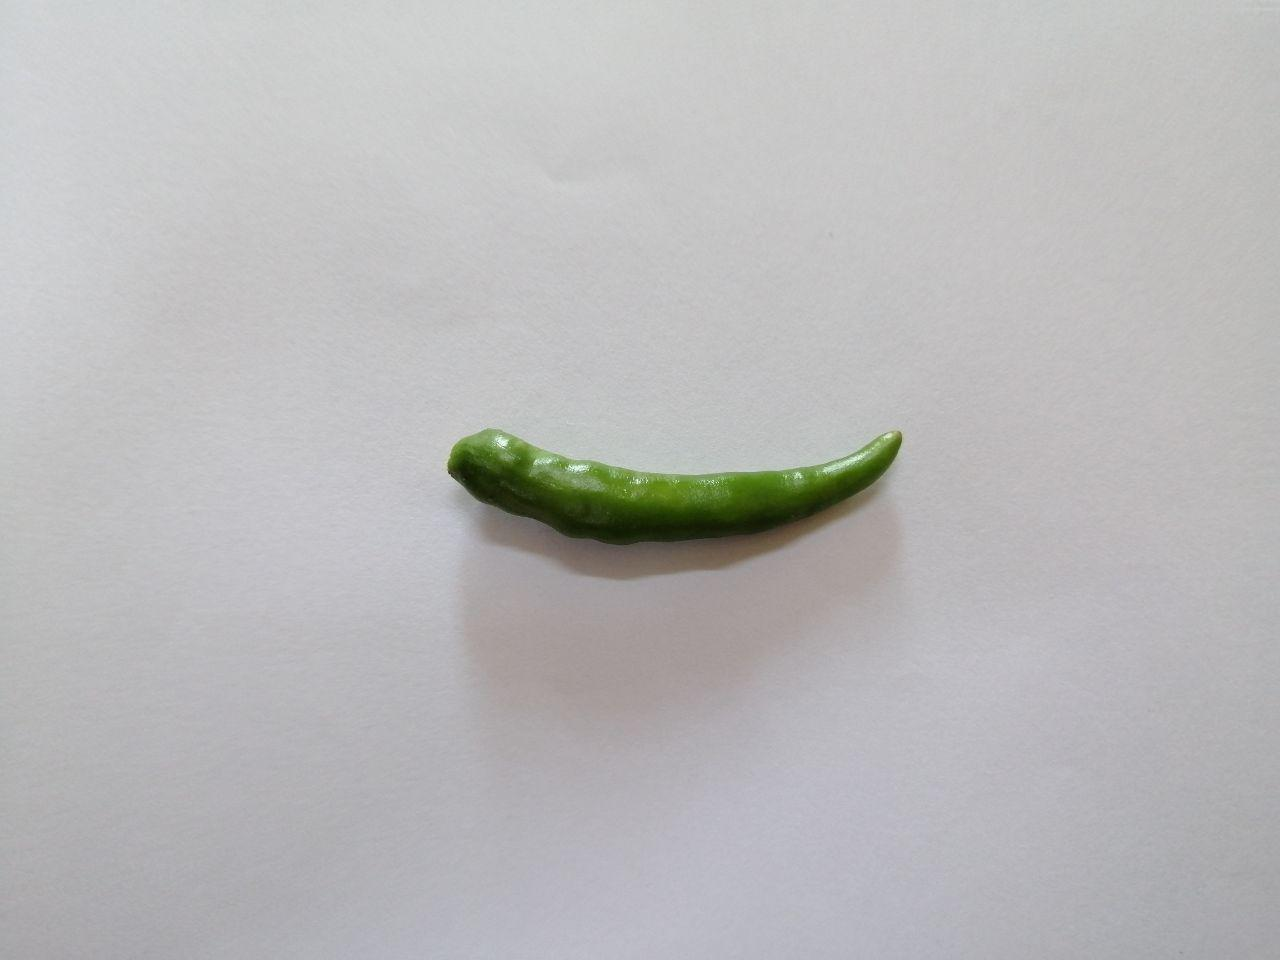lada hijau: (428, 411, 935, 559)
